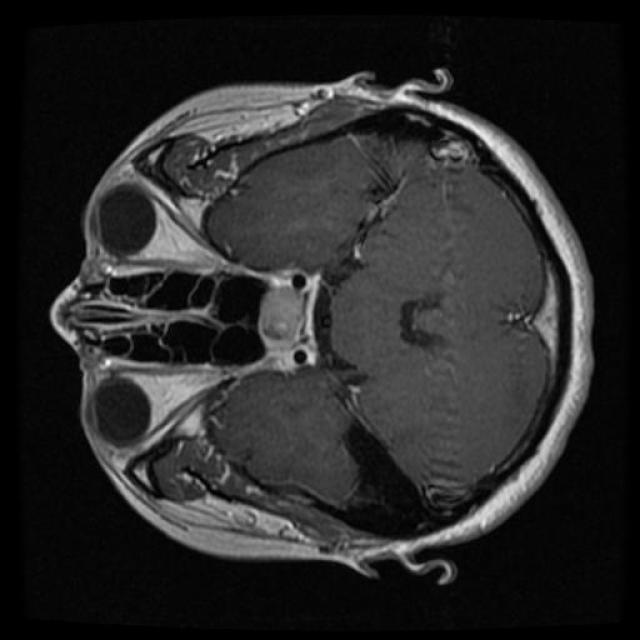Pituitary: (258, 268, 321, 372)
